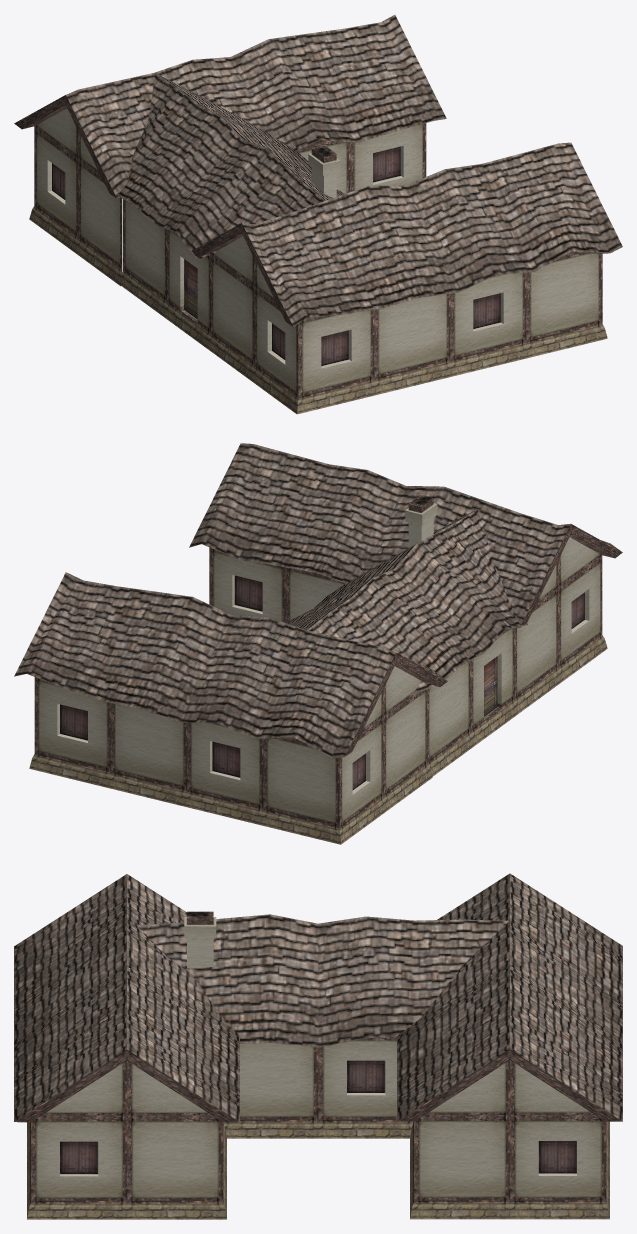
File: s44_b_house_4_6.dae
3 renders of one model, top to bottom at view 1: azimuth 30°, elevation 25°; view 2: azimuth 150°, elevation 25°; view 3: azimuth 270°, elevation 25°, orthographic. The views are drawn at different scales.
Parts seen in each view (by area): view 1: Untitled; view 2: Untitled; view 3: Untitled.
Part boxes in pixels (left/top/right/bottom): Untitled: left=14, top=15, right=622, bottom=414; Untitled: left=14, top=443, right=622, bottom=844; Untitled: left=14, top=873, right=622, bottom=1219.
Size of the model in its own units: 104 by 152 by 54.08.
Materials: 1 (1 with a texture image).
